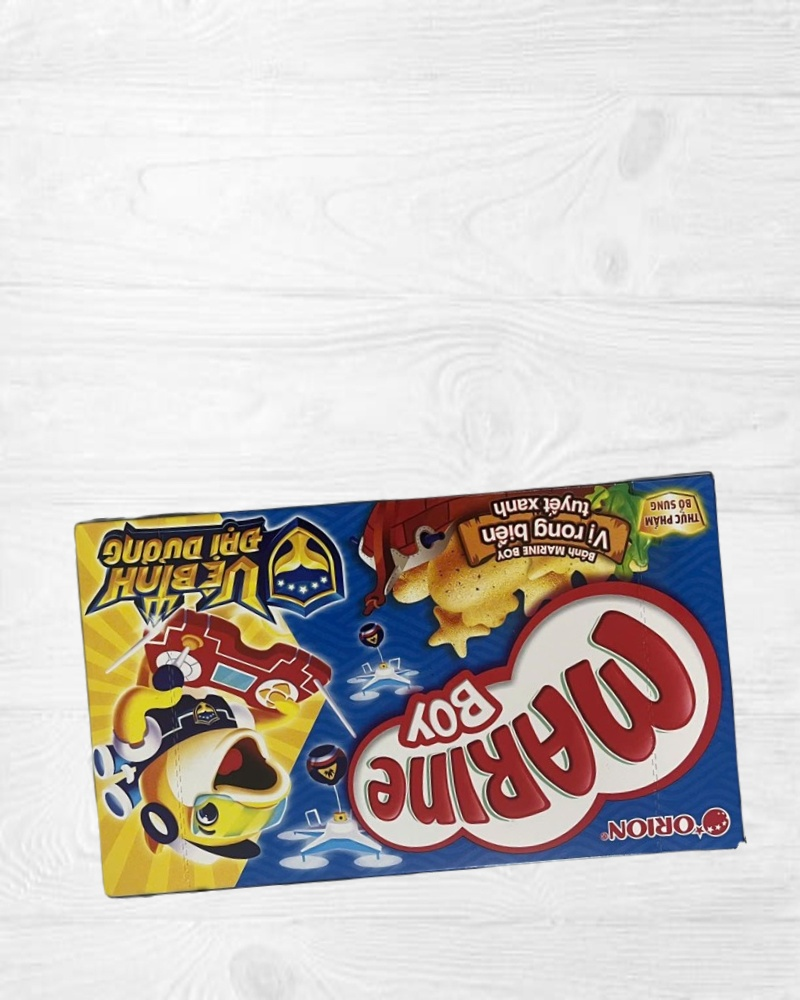Marine: (71, 467, 747, 904)
